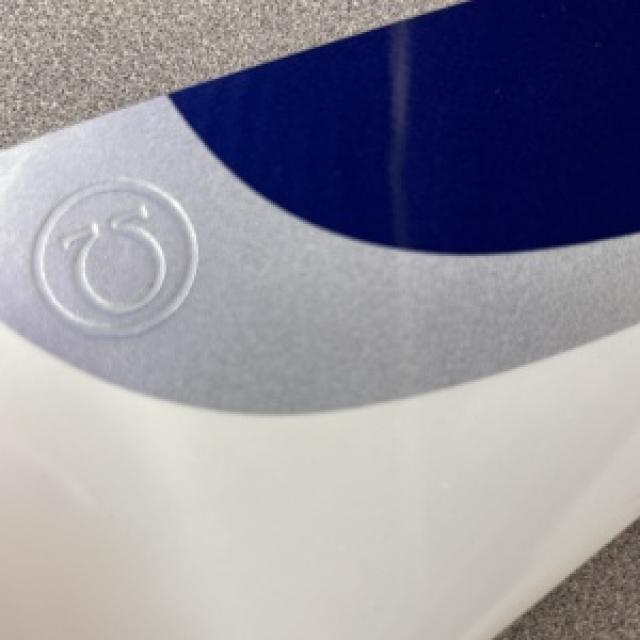healthy: (0, 0, 452, 145), (4, 561, 128, 634)
